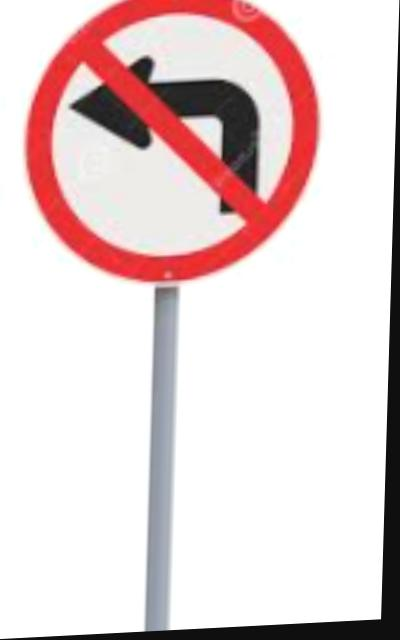not_turn_left: (7, 0, 333, 305)
